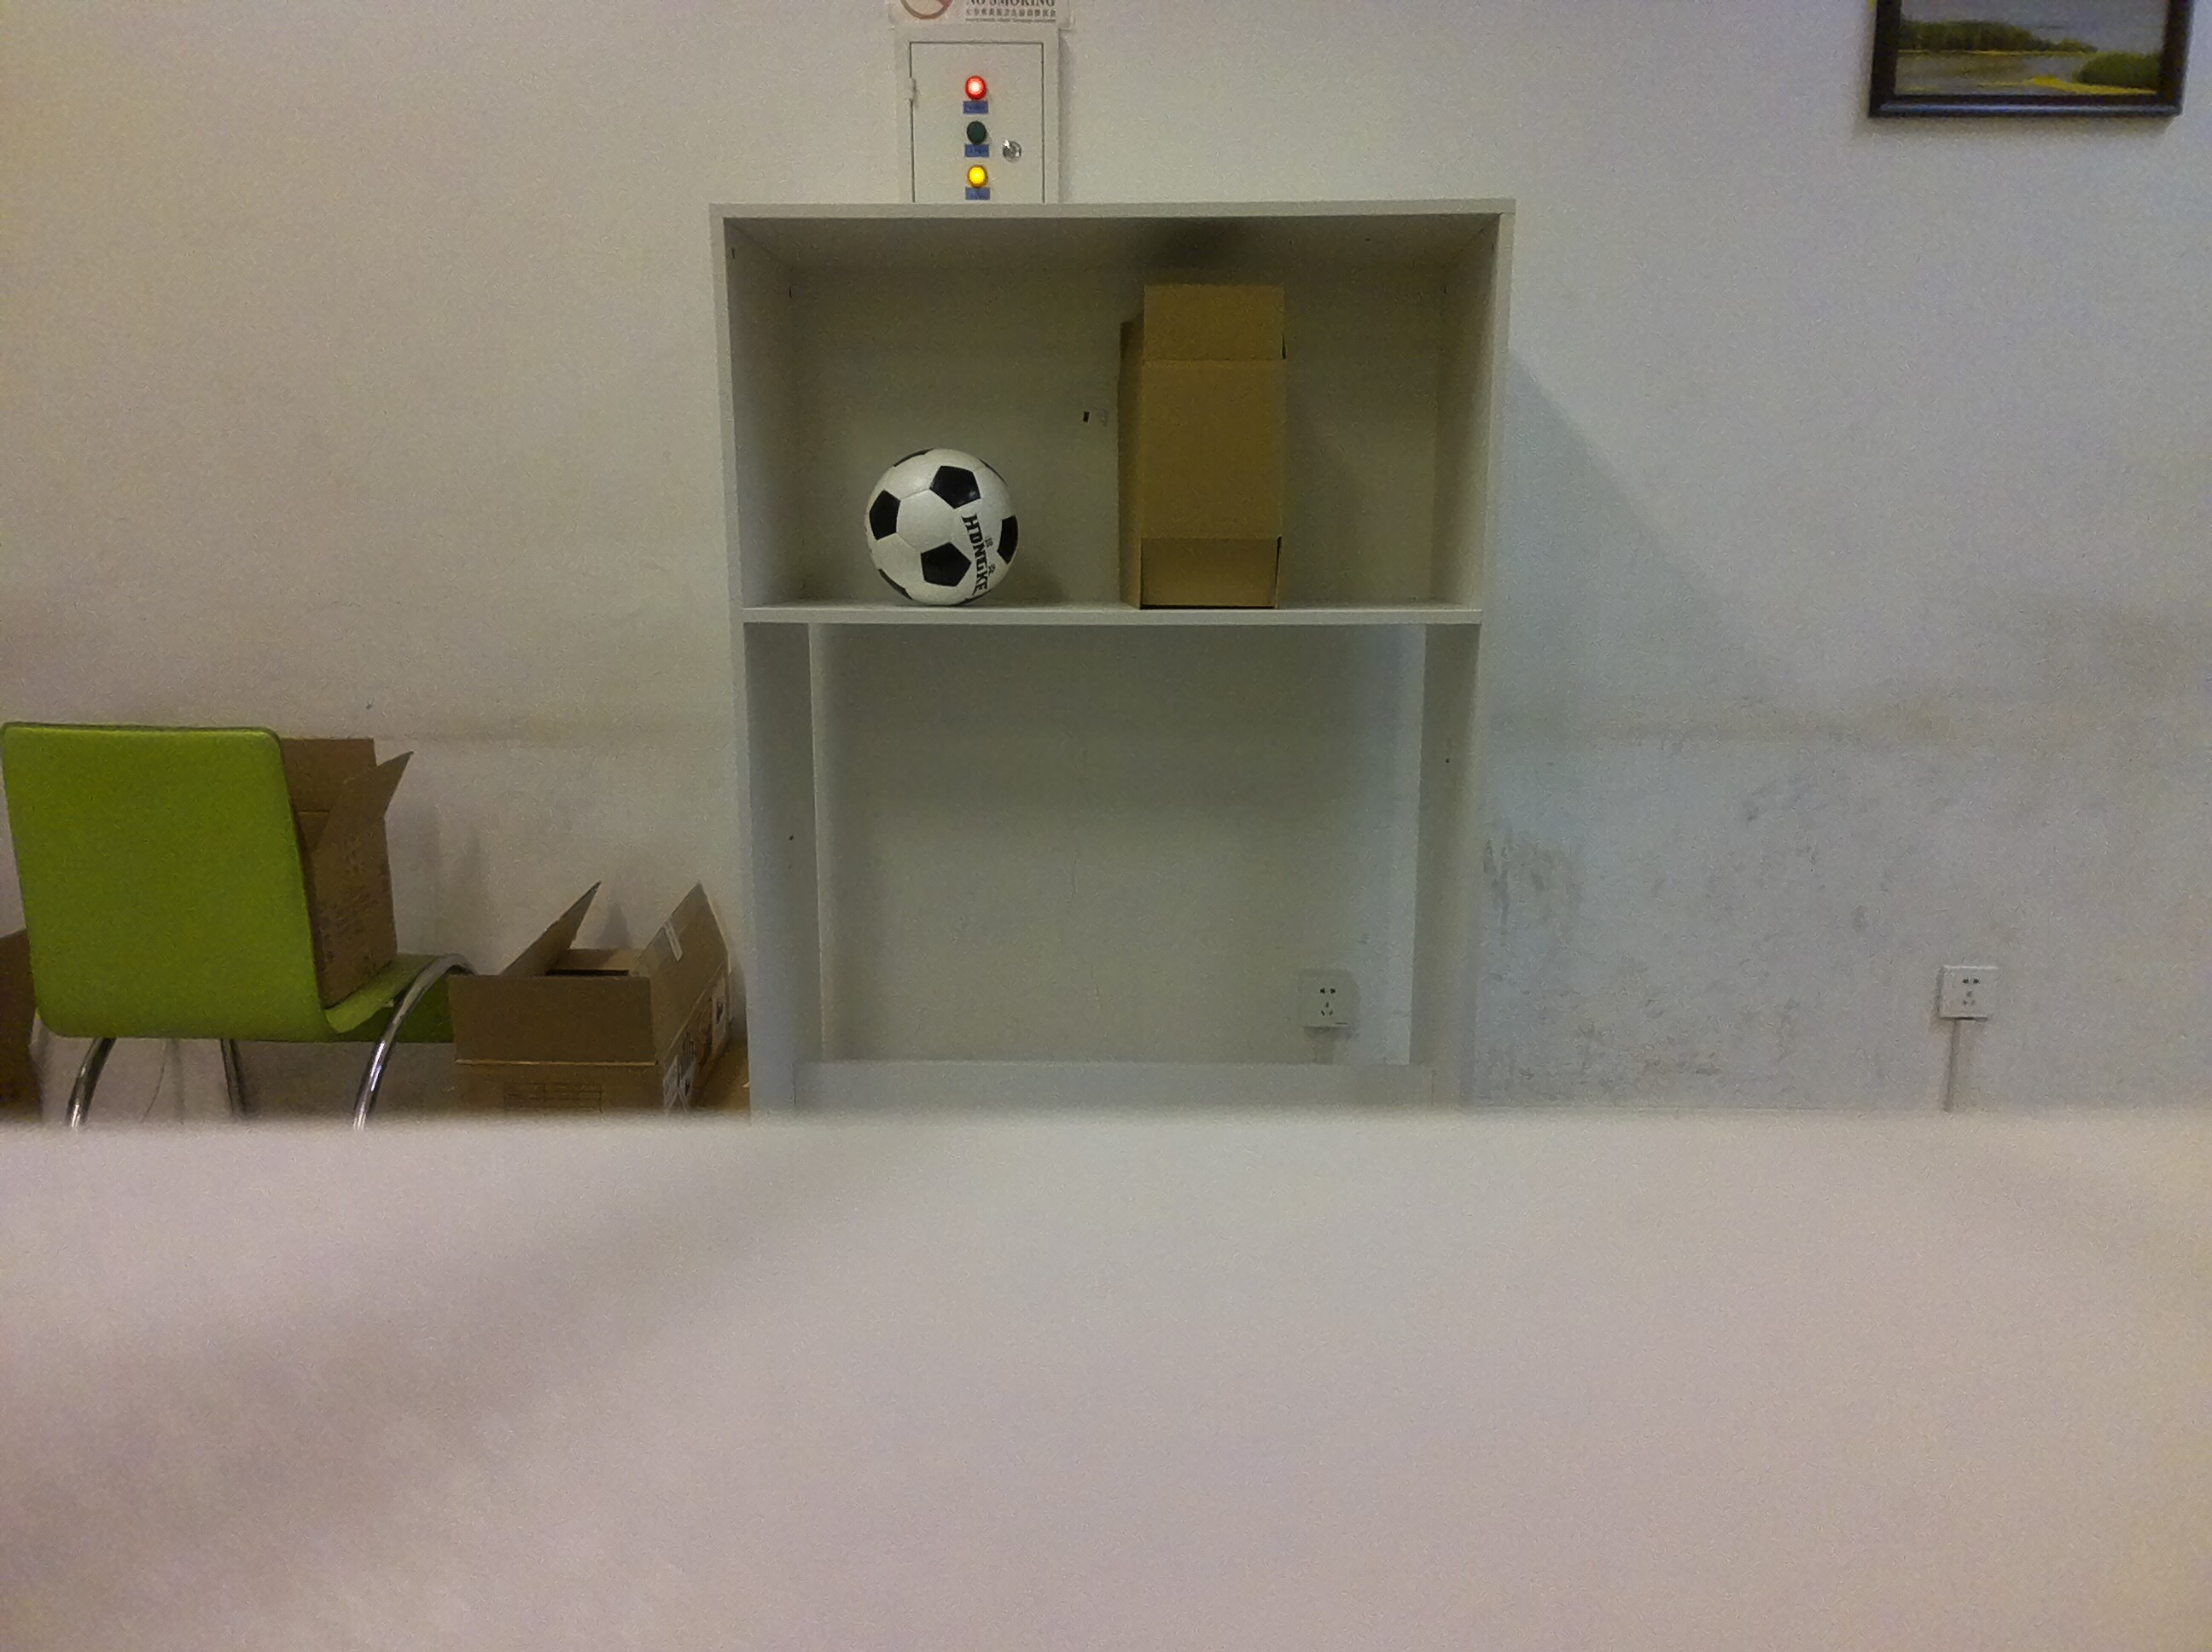football: (841, 432, 1046, 625)
